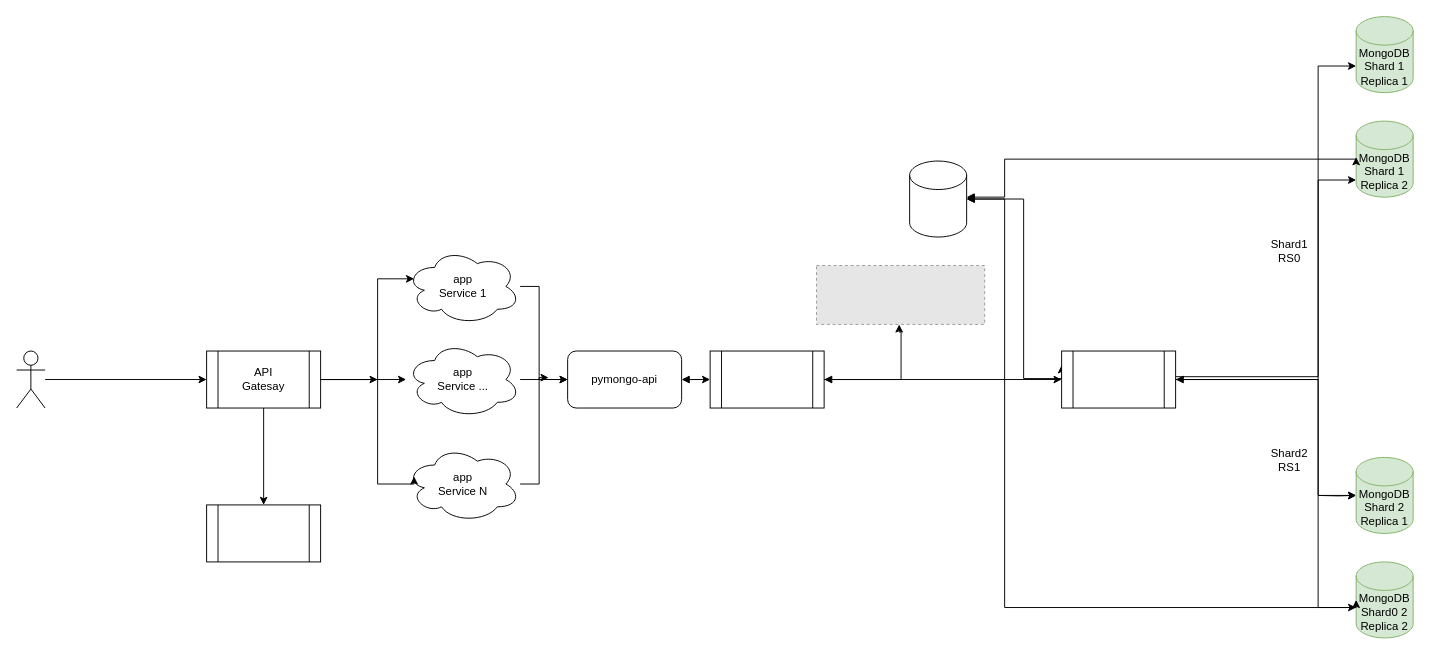
Image size: 1430x655. Some labels were removed from this diagram. Grey dashed boxes stand in for pictures. The centre of each missing label's shape, as x and y in pixels:
Actor: the point at 30,379
configSrv: the point at 938,198
Consul: the point at 263,533
Driver: the point at 766,379
Router: the point at 1118,379
